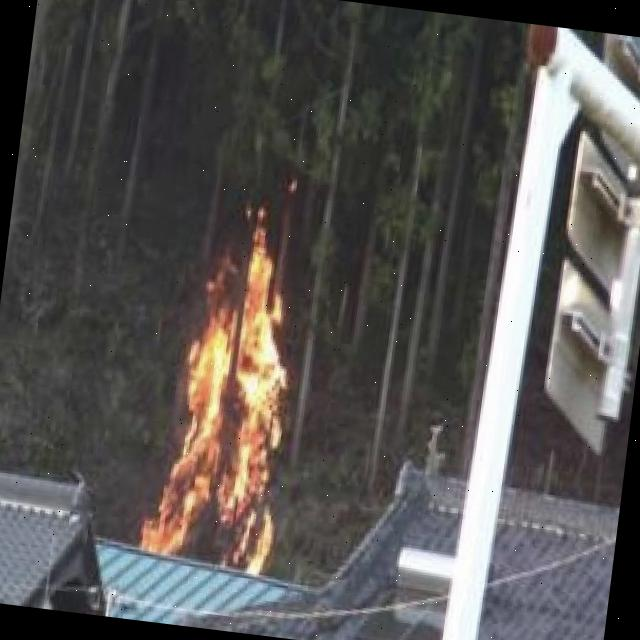fire: (147, 200, 326, 586)
